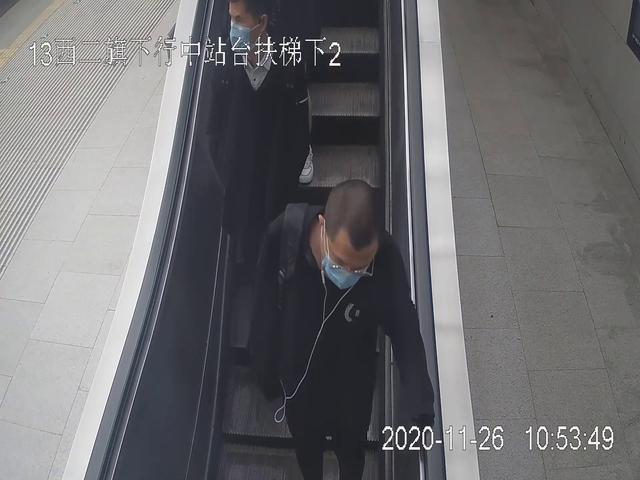person: (256, 182, 434, 480), (208, 1, 312, 350)
